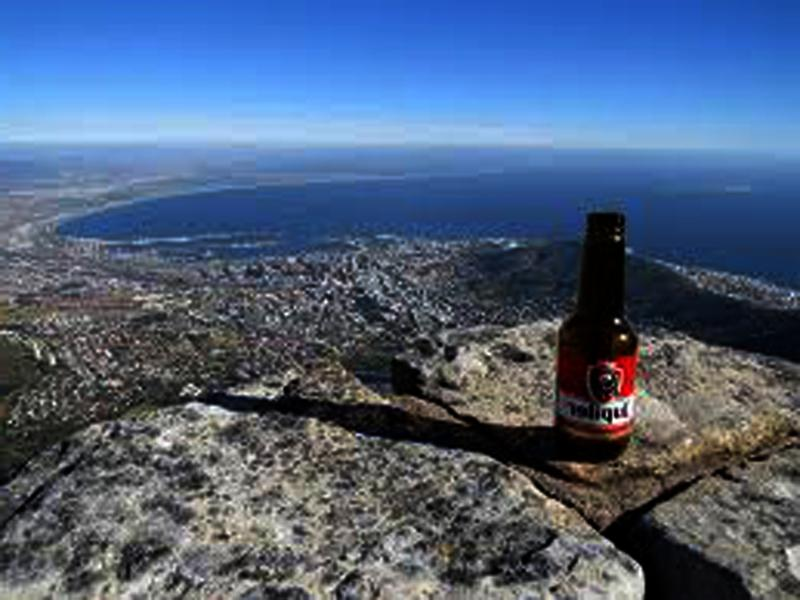Beer: (555, 210, 638, 452)
